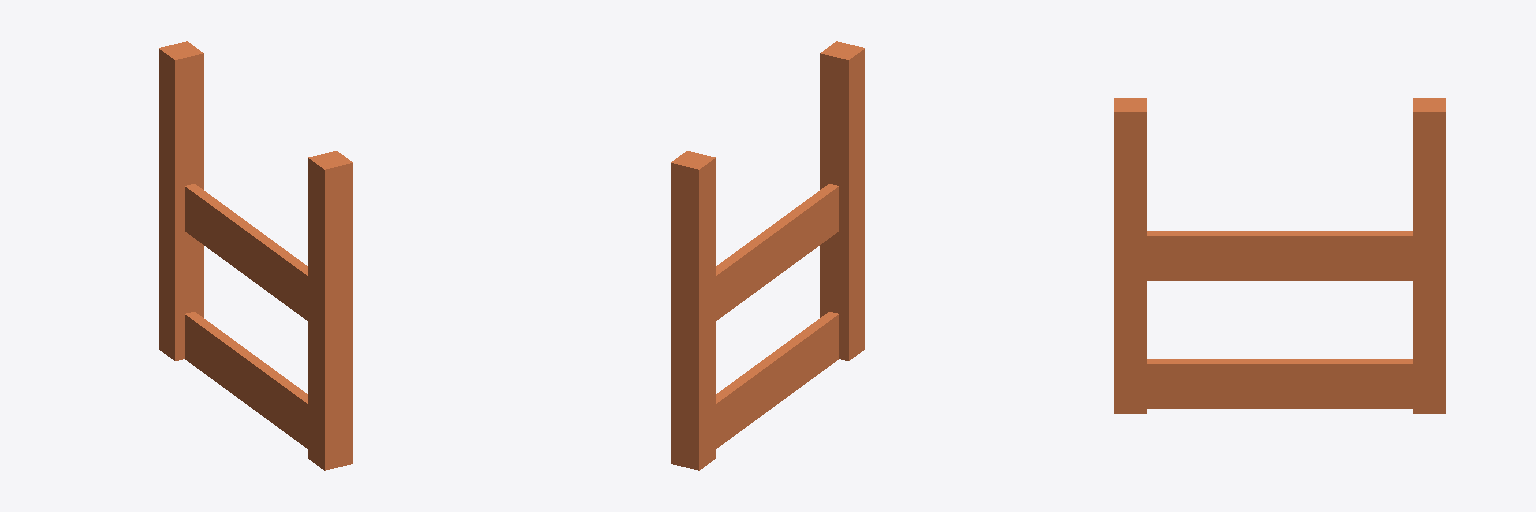
File: polesHorizontal.obj
3 renders of one model, left to right at view 1: azimuth 30°, elevation 25°; view 2: azimuth 150°, elevation 25°; view 3: azimuth 270°, elevation 25°, orthographic.
Visible parts, largest first — view 1: polesHorizontal; view 2: polesHorizontal; view 3: polesHorizontal.
Boxes of the visible parts, x1=… form: polesHorizontal: x1=159, y1=41, x2=352, y2=470; polesHorizontal: x1=671, y1=41, x2=864, y2=470; polesHorizontal: x1=1114, y1=98, x2=1445, y2=413.
Bounding box in the file's own units: 0.1 × 1 × 1.